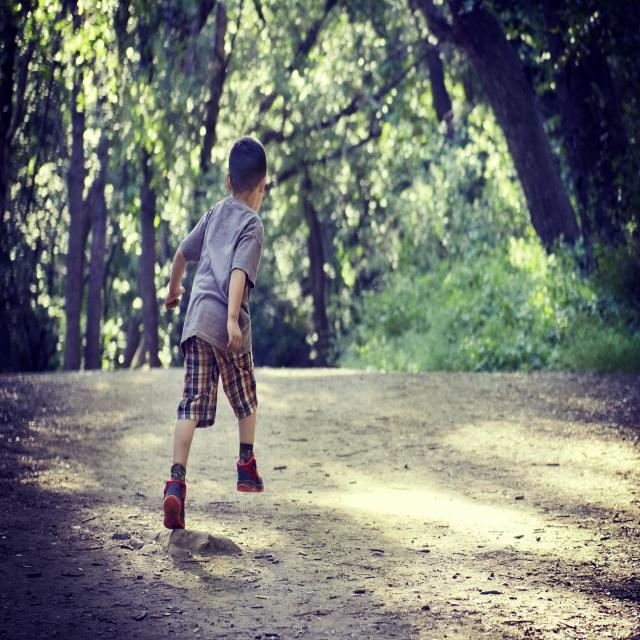child: (164, 135, 266, 532)
